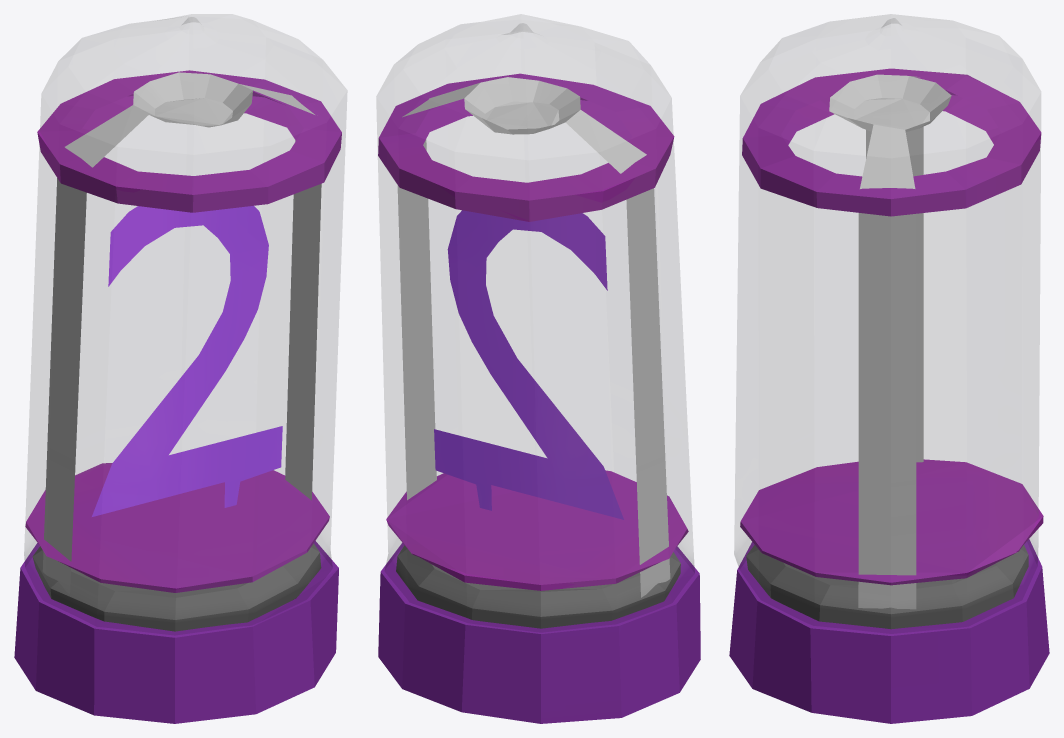
File: obj_num02_alt.gltf
3 renders of one model, left to right at view 1: azimuth 30°, elevation 25°; view 2: azimuth 150°, elevation 25°; view 3: azimuth 270°, elevation 25°, orthographic. The views are drawn at different scales.
Visible parts, largest first — view 1: obj_num02_alt; view 2: obj_num02_alt; view 3: obj_num02_alt.
Boxes of the visible parts, x1=… form: obj_num02_alt: x1=14, y1=14, x2=347, y2=723; obj_num02_alt: x1=376, y1=14, x2=700, y2=723; obj_num02_alt: x1=729, y1=14, x2=1049, y2=723.
Size of what is drawn, in the model's own units: 0.3405 by 0.7187 by 0.3231.
2 materials, 2 textured.
